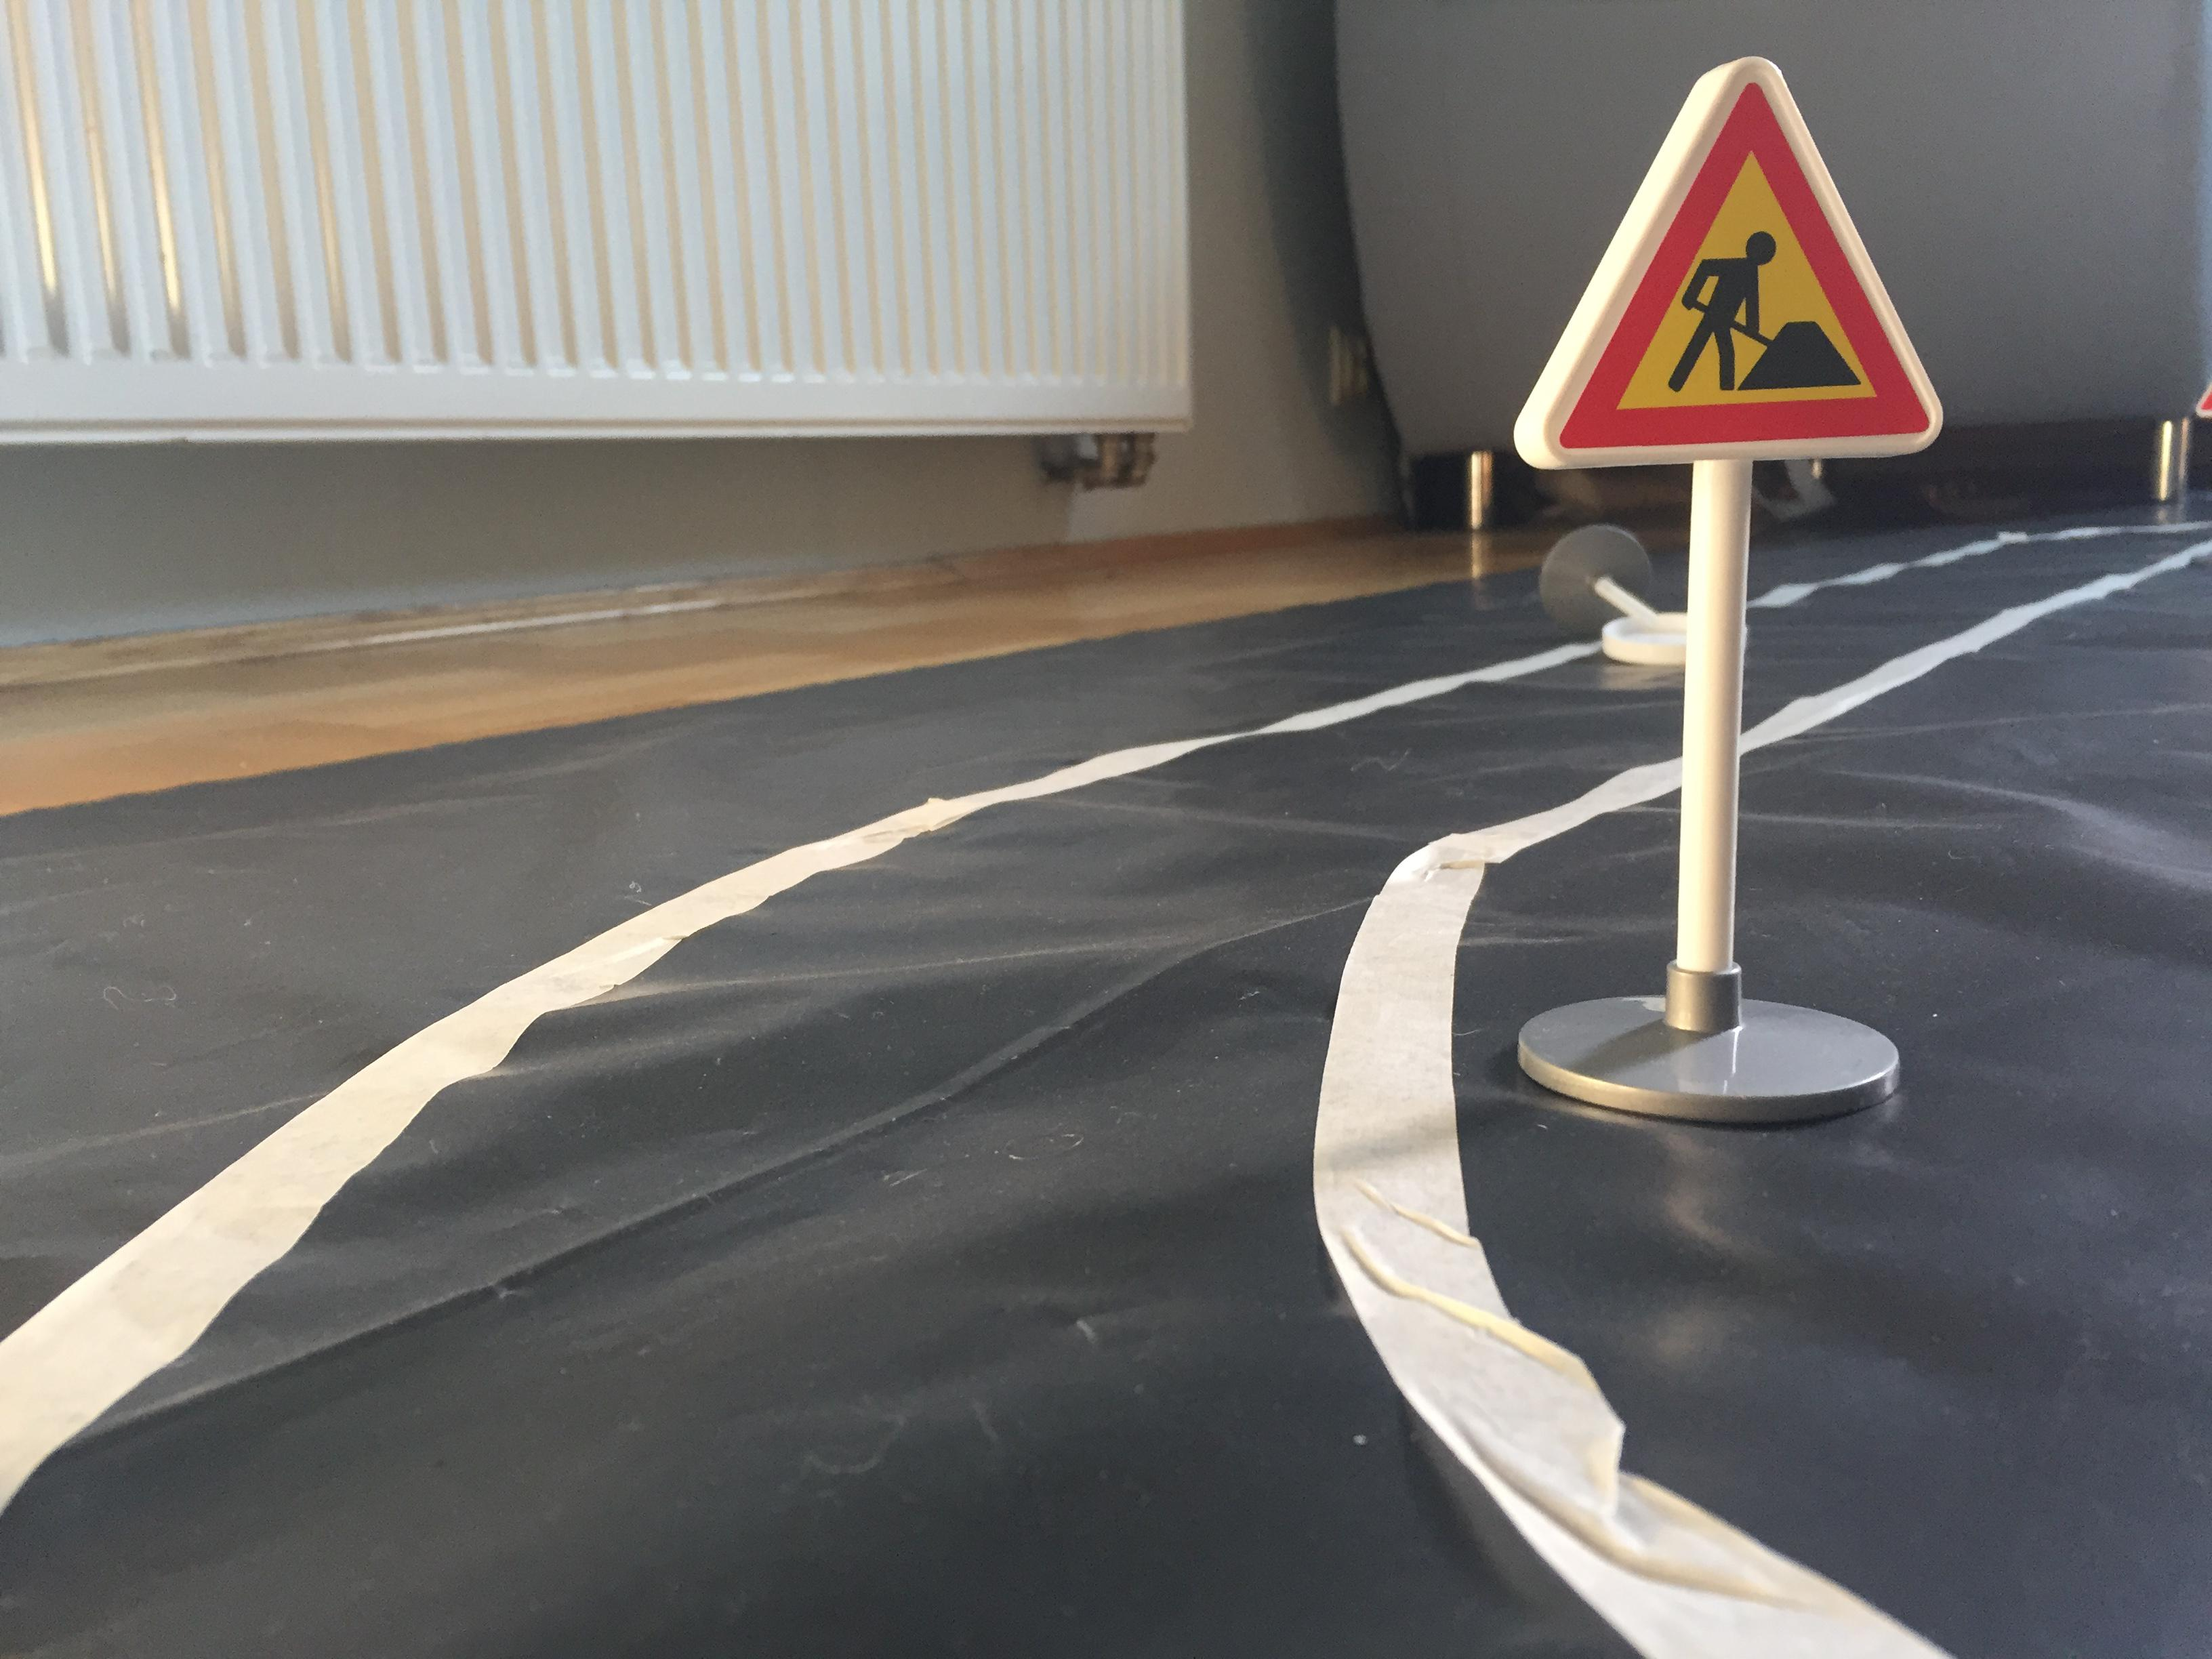work: (1507, 38, 1956, 488)
